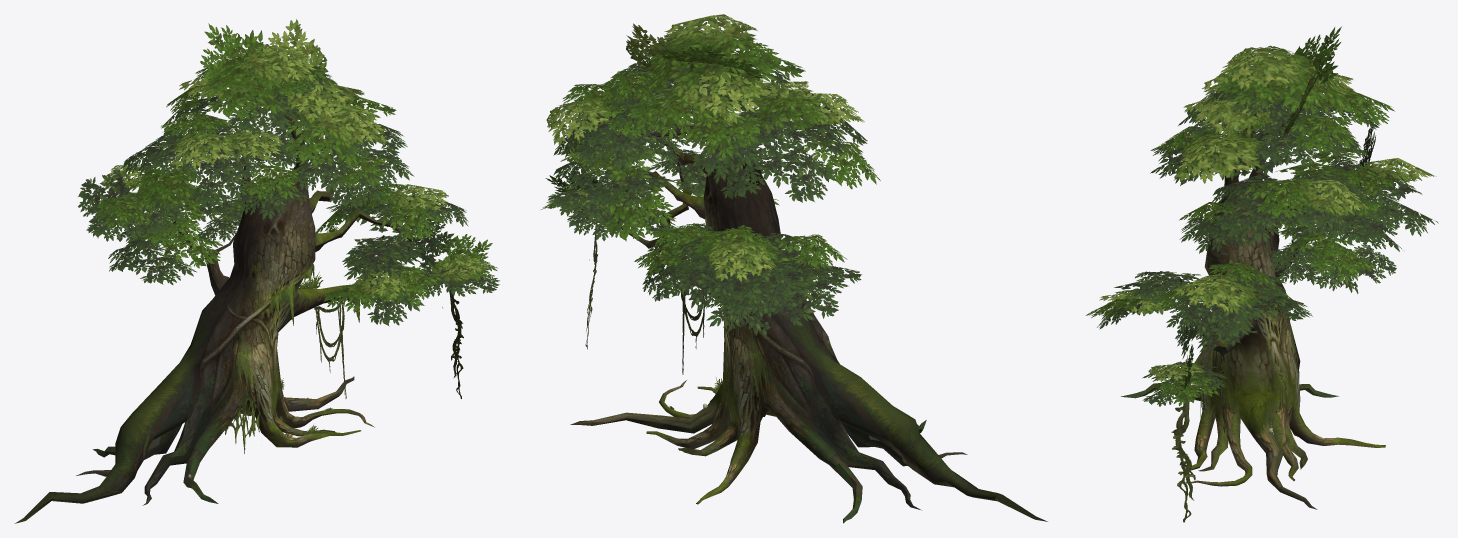
File: 3004_Item_shu_2.FBX
3 renders of one model, left to right at view 1: azimuth 30°, elevation 25°; view 2: azimuth 150°, elevation 25°; view 3: azimuth 270°, elevation 25°, orthographic. The views are drawn at different scales.
Parts seen in each view (by area): view 1: 3004_Item_shu_2; view 2: 3004_Item_shu_2; view 3: 3004_Item_shu_2.
Boxes of the visible parts, <box> form: 3004_Item_shu_2: <box>14,19,499,523</box>; 3004_Item_shu_2: <box>541,14,1047,523</box>; 3004_Item_shu_2: <box>1086,26,1438,522</box>.
Bounding box in the file's own units: 1327 × 1101 × 820.
